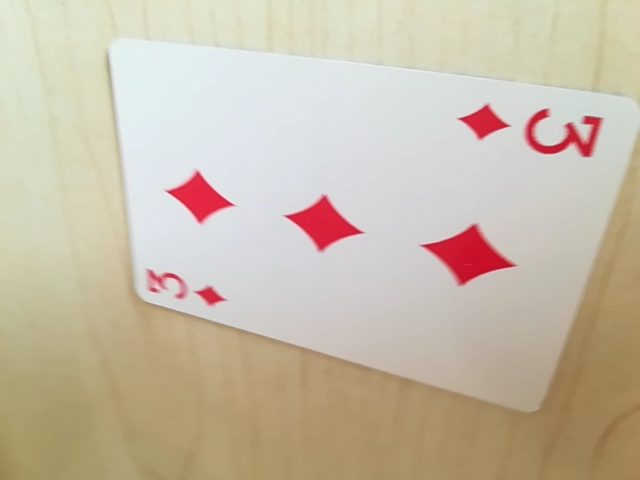fk 3: (455, 97, 604, 163), (139, 262, 233, 312)
